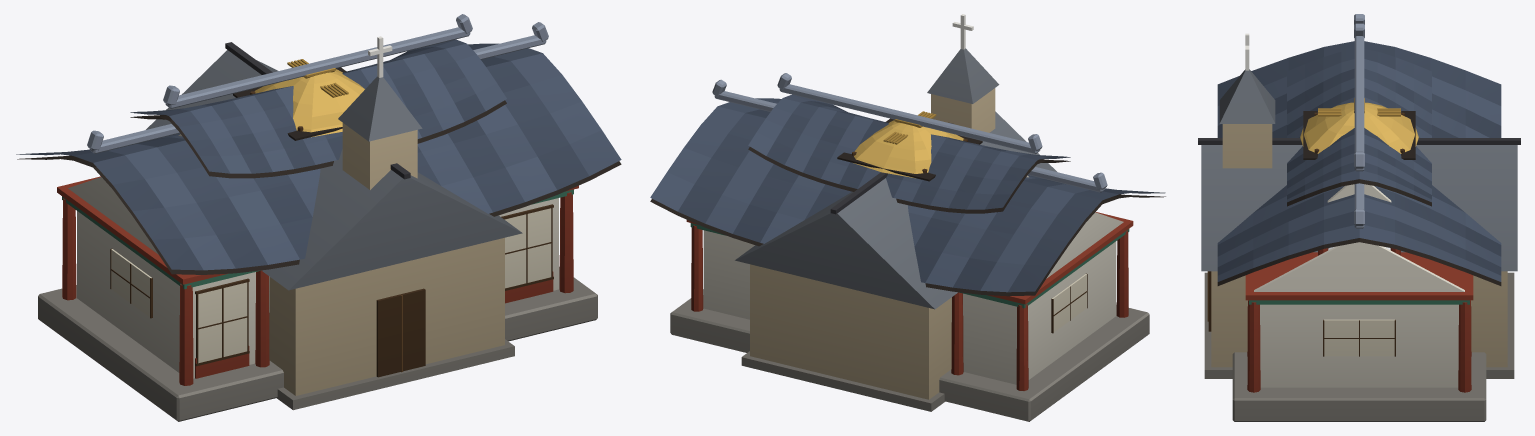
Rendered from build.glb.
The picture shows the model from 3 angles, left to right: view 1: azimuth 30°, elevation 25°; view 2: azimuth 150°, elevation 25°; view 3: azimuth 270°, elevation 25°; orthographic projection. The views are drawn at different scales.
Visible parts, largest first — view 1: hall, church, gate_fort, tower; view 2: hall, church, gate_fort, tower; view 3: hall, church, gate_fort, tower.
Boxes of the visible parts, left/top/right/bottom form: hall: left=16, top=22, right=621, bottom=421; church: left=146, top=36, right=522, bottom=410; gate_fort: left=130, top=14, right=506, bottom=178; tower: left=233, top=59, right=364, bottom=140; hall: left=650, top=79, right=1165, bottom=421; church: left=735, top=14, right=1056, bottom=411; gate_fort: left=748, top=73, right=1070, bottom=213; tower: left=837, top=111, right=982, bottom=181; hall: left=1217, top=14, right=1501, bottom=421; church: left=1198, top=33, right=1520, bottom=378; gate_fort: left=1287, top=23, right=1431, bottom=255; tower: left=1300, top=98, right=1418, bottom=159.
Bounding box in the file's own units: 14.45 × 9.99 × 9.8.
